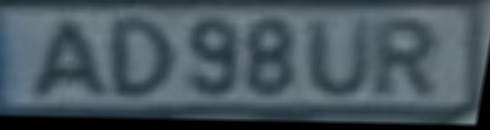8: (244, 17, 298, 102)
9: (187, 17, 244, 102)
A: (30, 19, 112, 100)
D: (113, 17, 181, 101)
R: (374, 18, 439, 100)
U: (306, 19, 376, 101)
